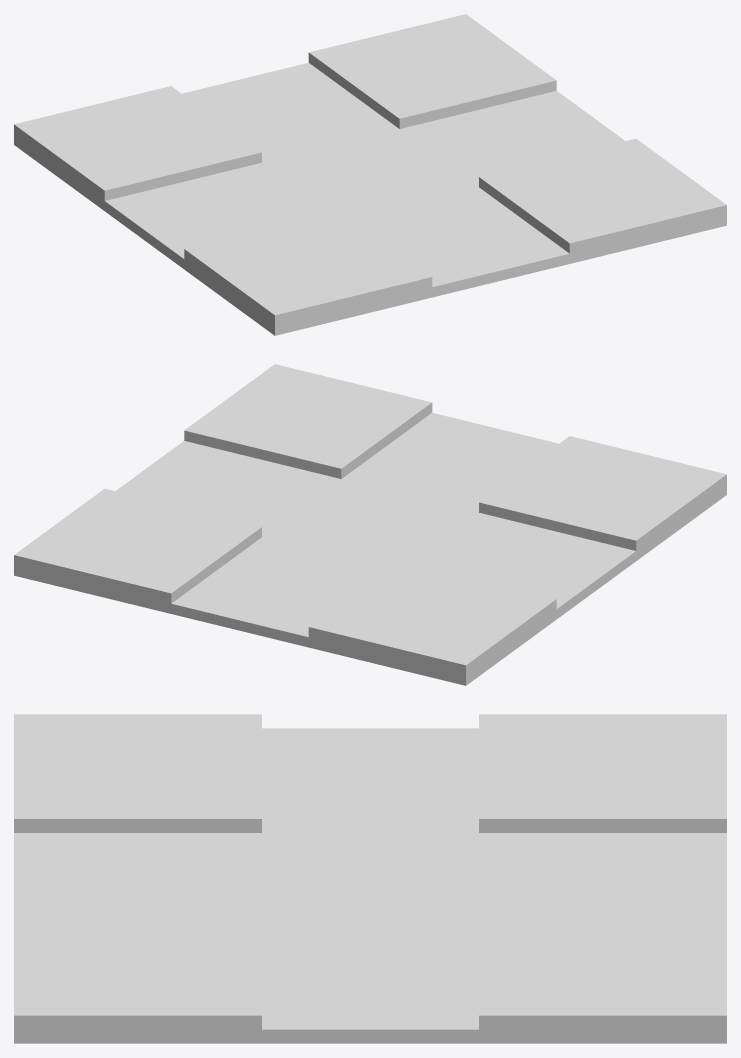
File: floor-cross.glb
3 renders of one model, top to bottom at view 1: azimuth 30°, elevation 25°; view 2: azimuth 150°, elevation 25°; view 3: azimuth 270°, elevation 25°, orthographic. The views are drawn at different scales.
Visible parts, largest first — view 1: floor-cross; view 2: floor-cross; view 3: floor-cross.
Part boxes in pixels (bbox=[...]): floor-cross: bbox=[14, 14, 726, 335]; floor-cross: bbox=[14, 364, 726, 685]; floor-cross: bbox=[14, 714, 726, 1043].
Bounding box in the file's own units: 4.6 × 0.2 × 4.6.
Materials: 1 (1 with a texture image).
